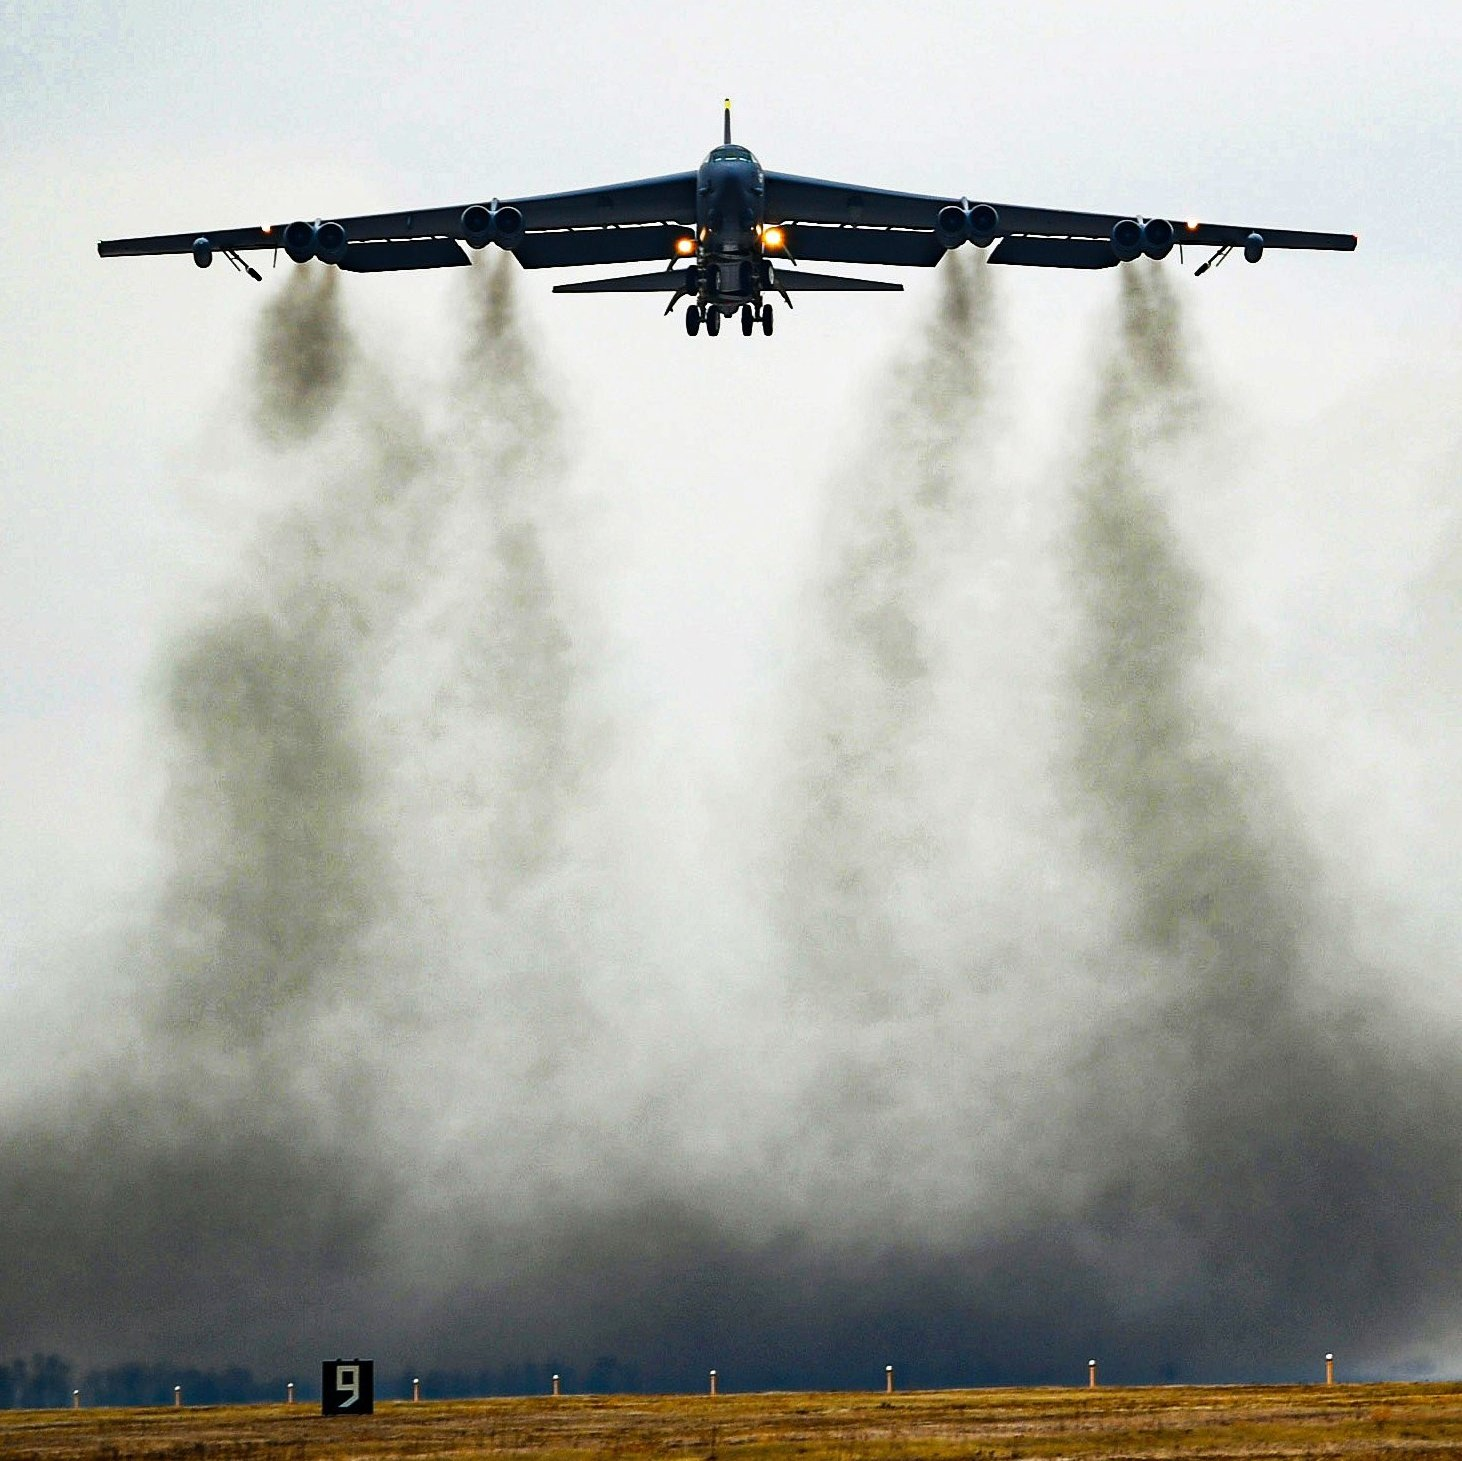B52: (95, 96, 1358, 337)
